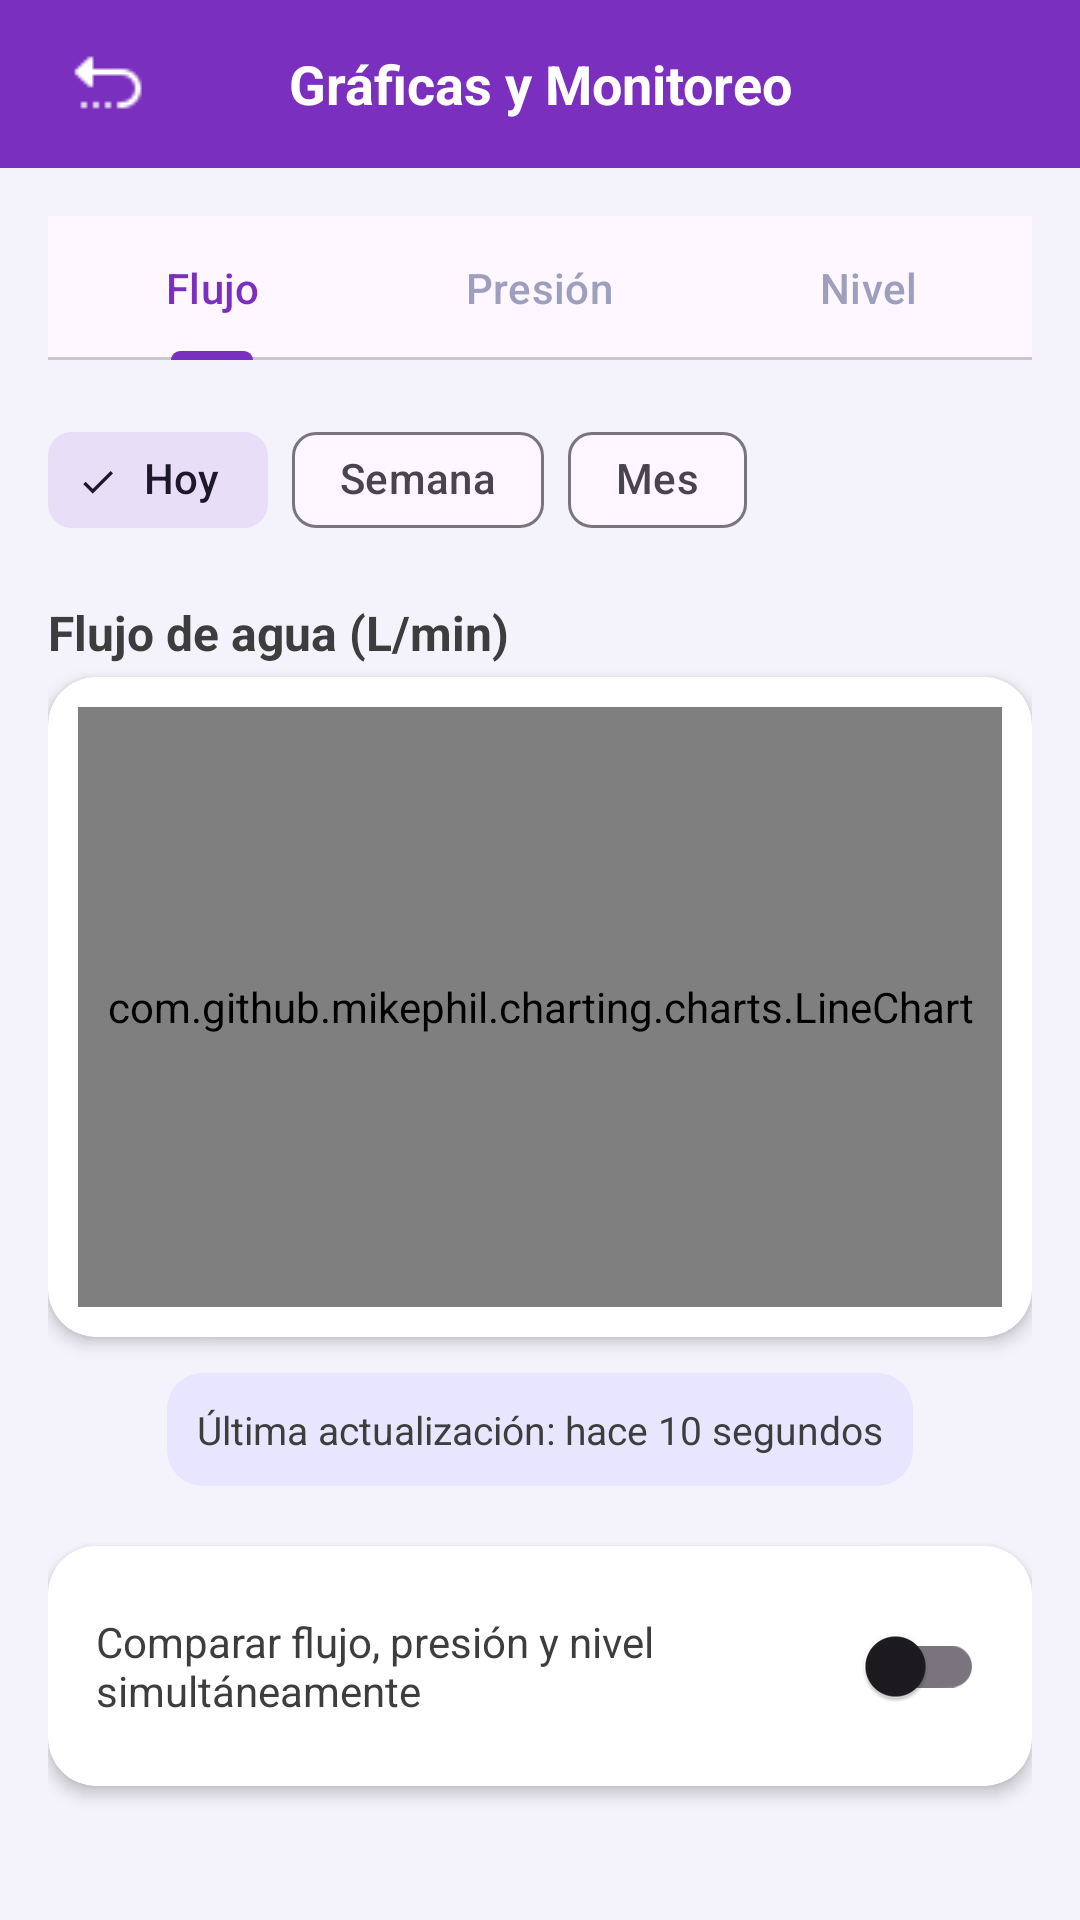

Screen size 1080*1920. Icon name, then its box in pixels as (x1, y1, x2, y2):
Regresar: (74, 56, 142, 109)
